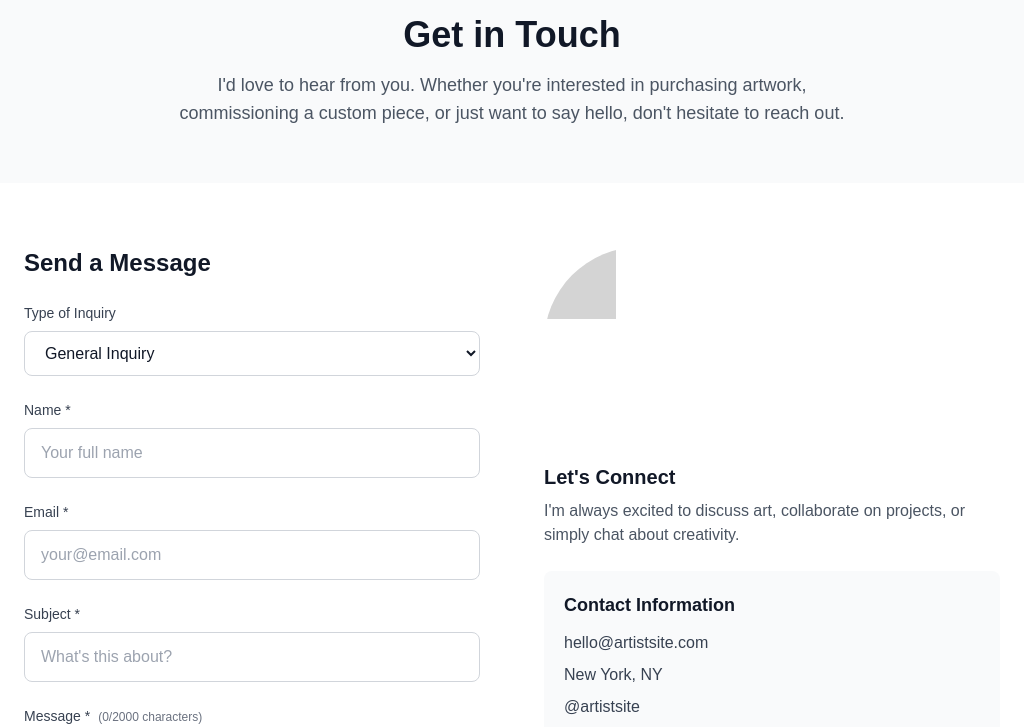
Contact Page › Form Submission › handles API errors gracefully
Select "General Inquiry" in the dropdown labelled "Type of Inquiry" at (252, 354), box [24,331,480,376]
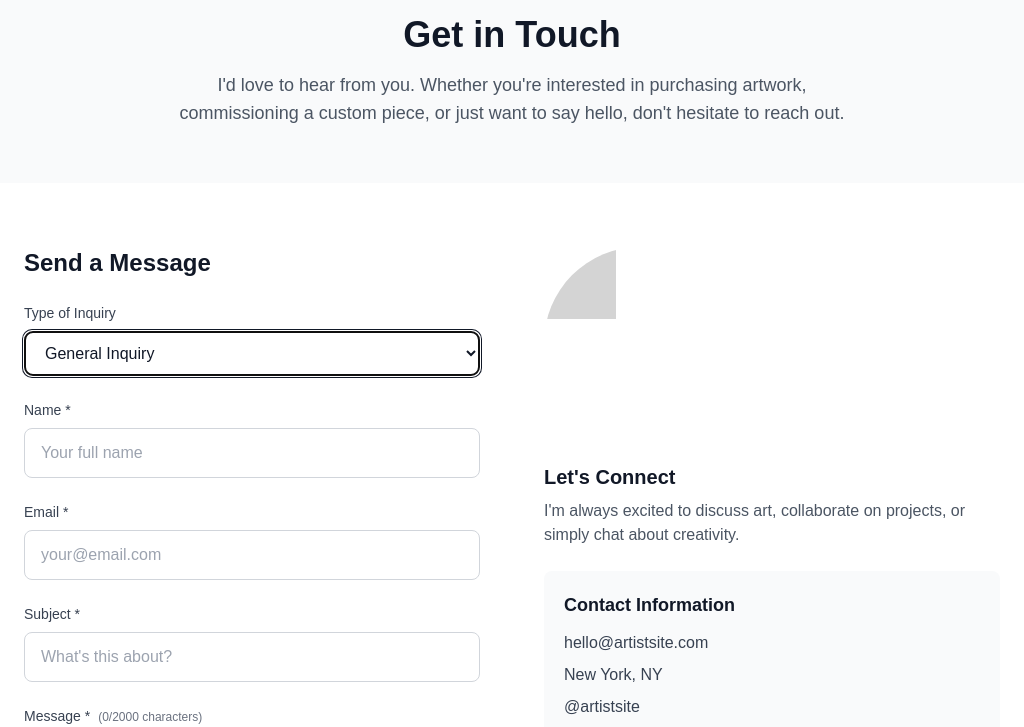
Type "John Doe" into the field labelled "Name *" at (252, 453), box [24,428,480,478]
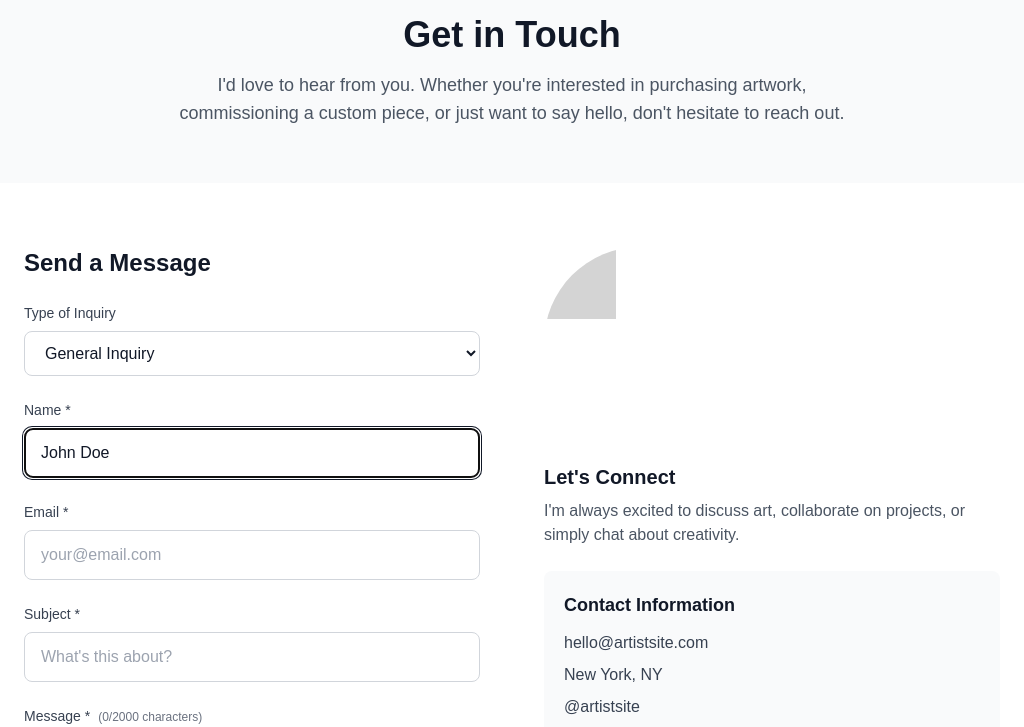
Type "john@example.com" into the field labelled "Email *" at (252, 555), box [24,530,480,580]
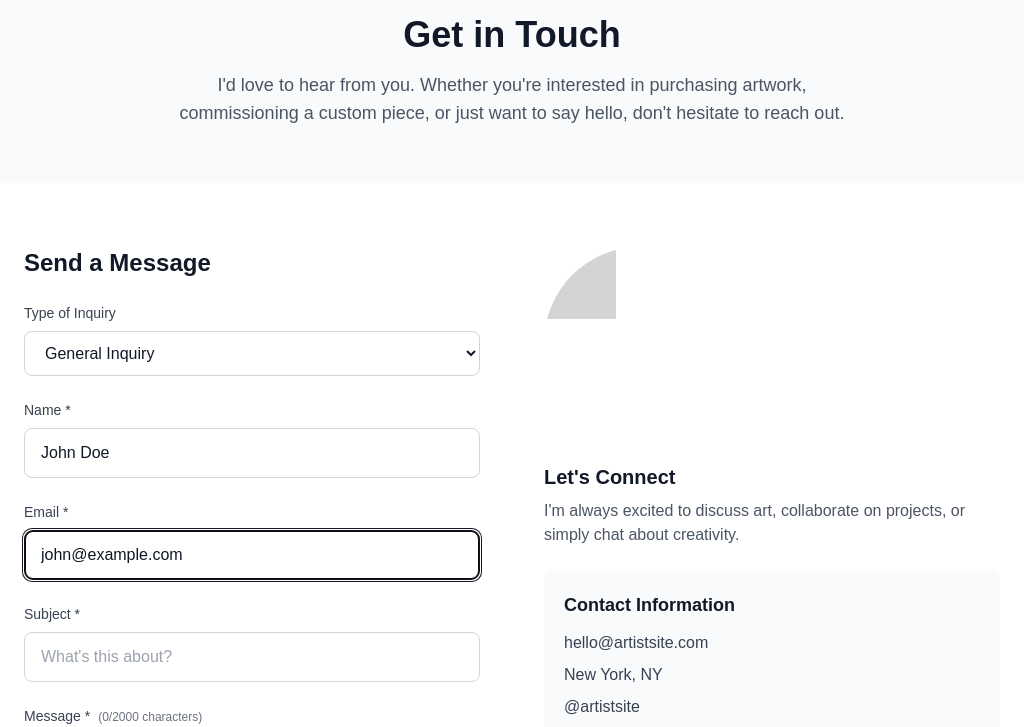
Type "Interest in artwork" into the field labelled "Subject *" at (252, 657), box [24,632,480,682]
(page scrolled)
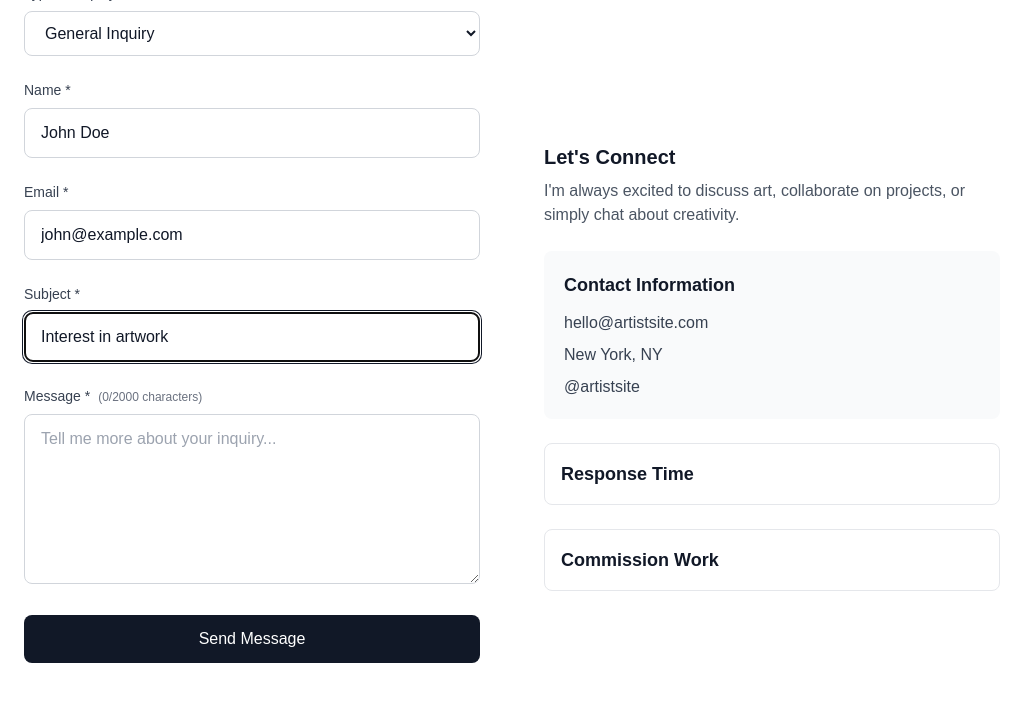
Type "I am interested in purchasing one of your paintings. Could you please send me more information about available pieces?" into the text box labelled "Message *(0/2000 characters)" at (252, 499), box [24,414,480,584]
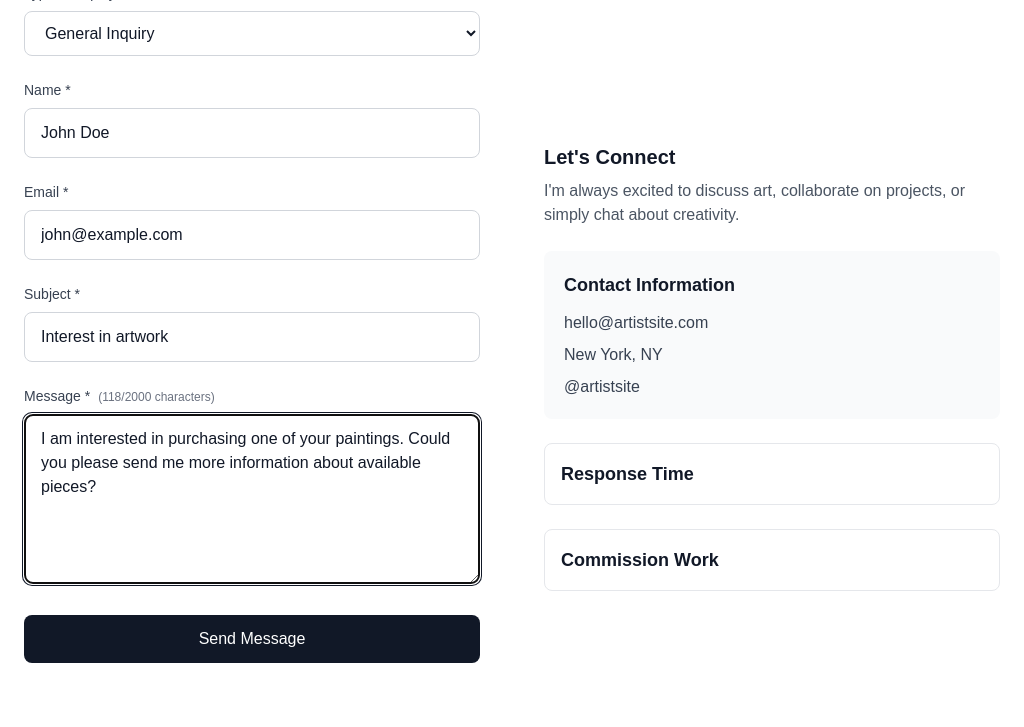
Click the button "Send Message" at (252, 639), box [24,615,480,663]
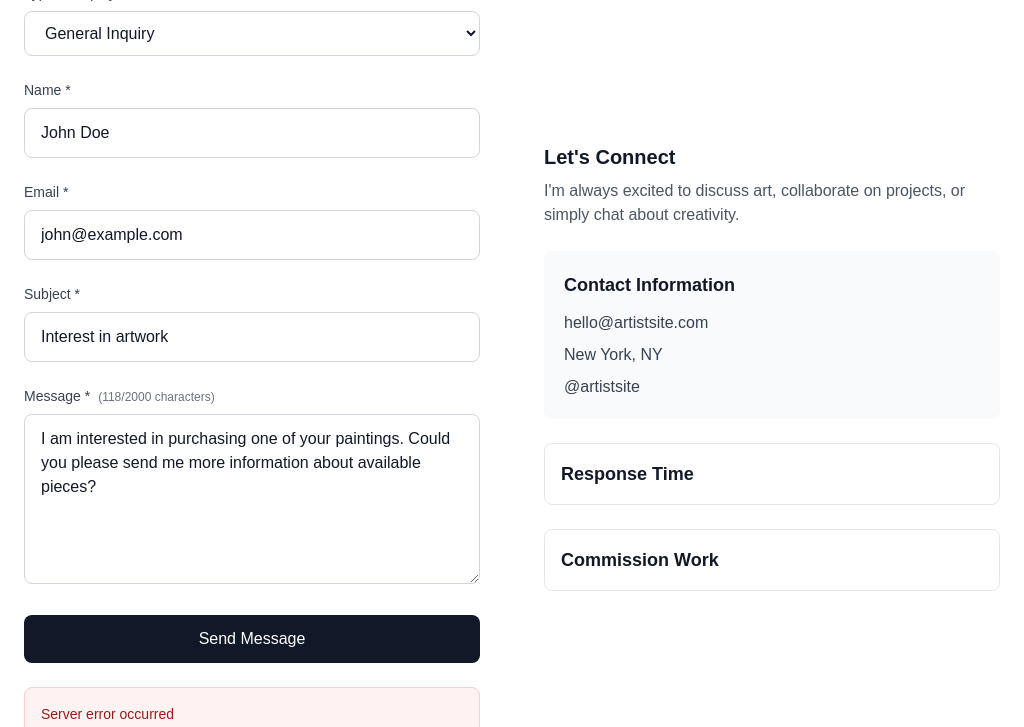
Now the text "Server error occurred" is shown, box [41,706,174,722]
